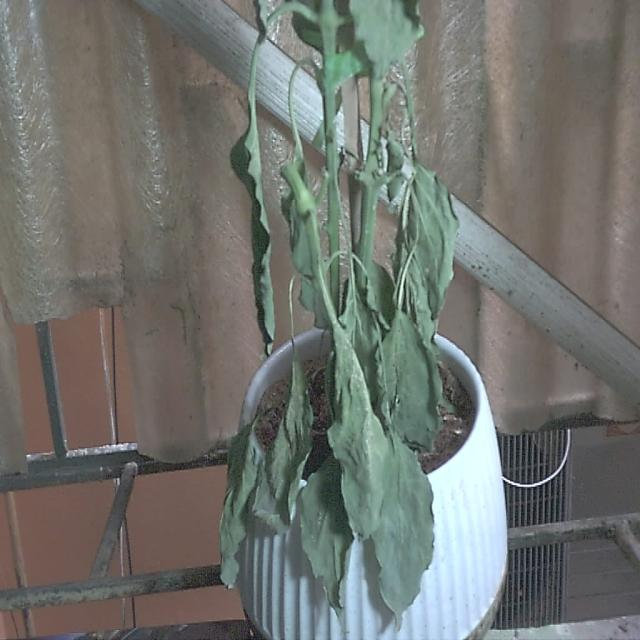Leaf: (330, 306, 395, 533), (372, 427, 436, 617), (228, 128, 277, 355), (268, 359, 314, 528), (219, 424, 264, 585)
